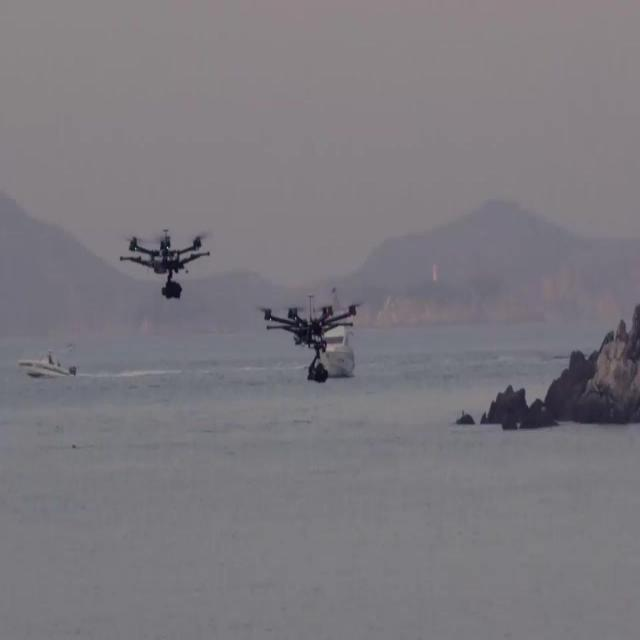UAV: (256, 303, 362, 384), (120, 228, 210, 300)
